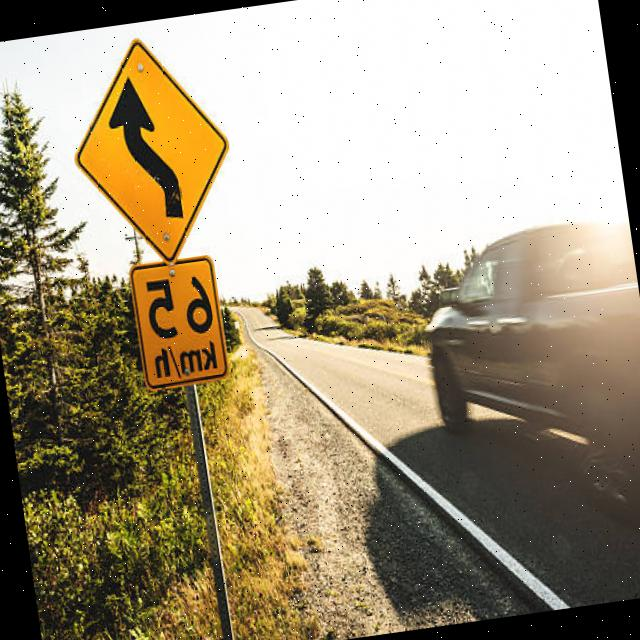left_sharp_curve: (61, 20, 252, 266)
